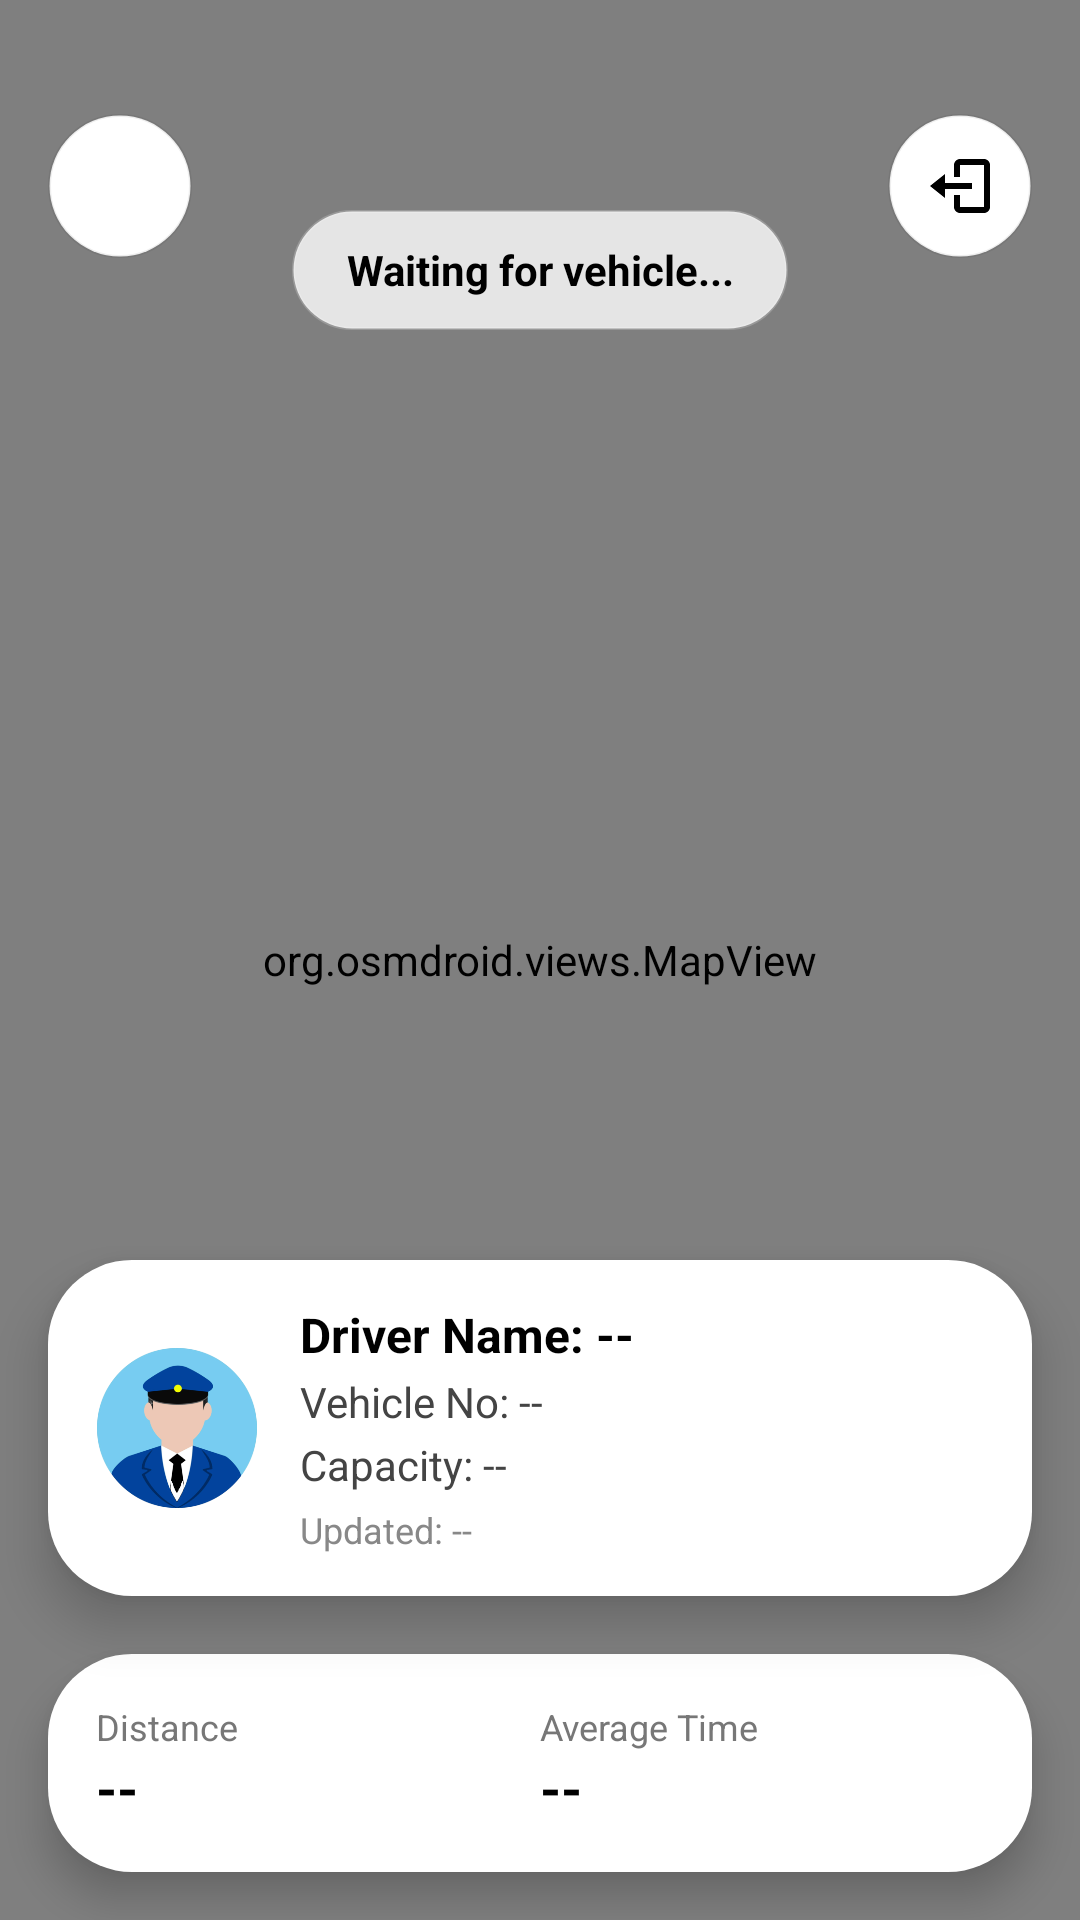

Icon bounding boxes for this 1080 x 1920 phone screenshot, format (x1, y1, x2, y2):
driverimg: (97, 1348, 257, 1508)
